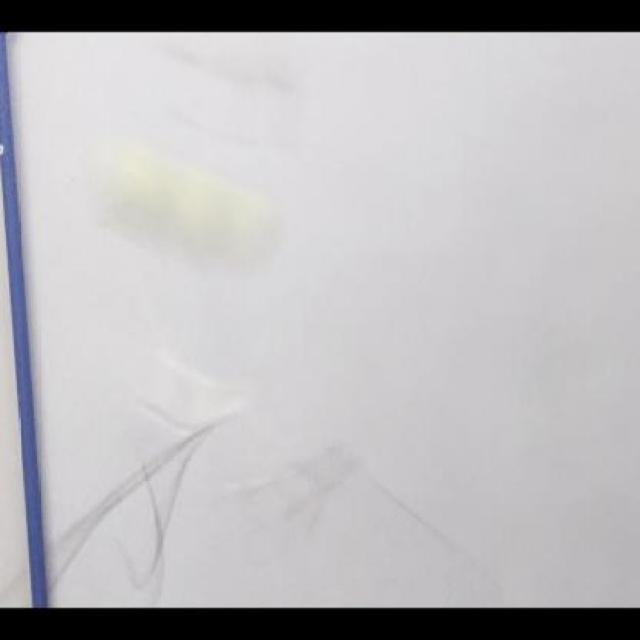baseball: (98, 147, 272, 267)
